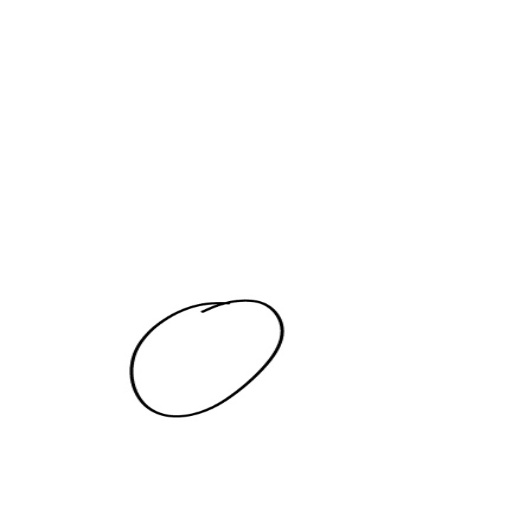circle: (123, 296, 292, 419)
